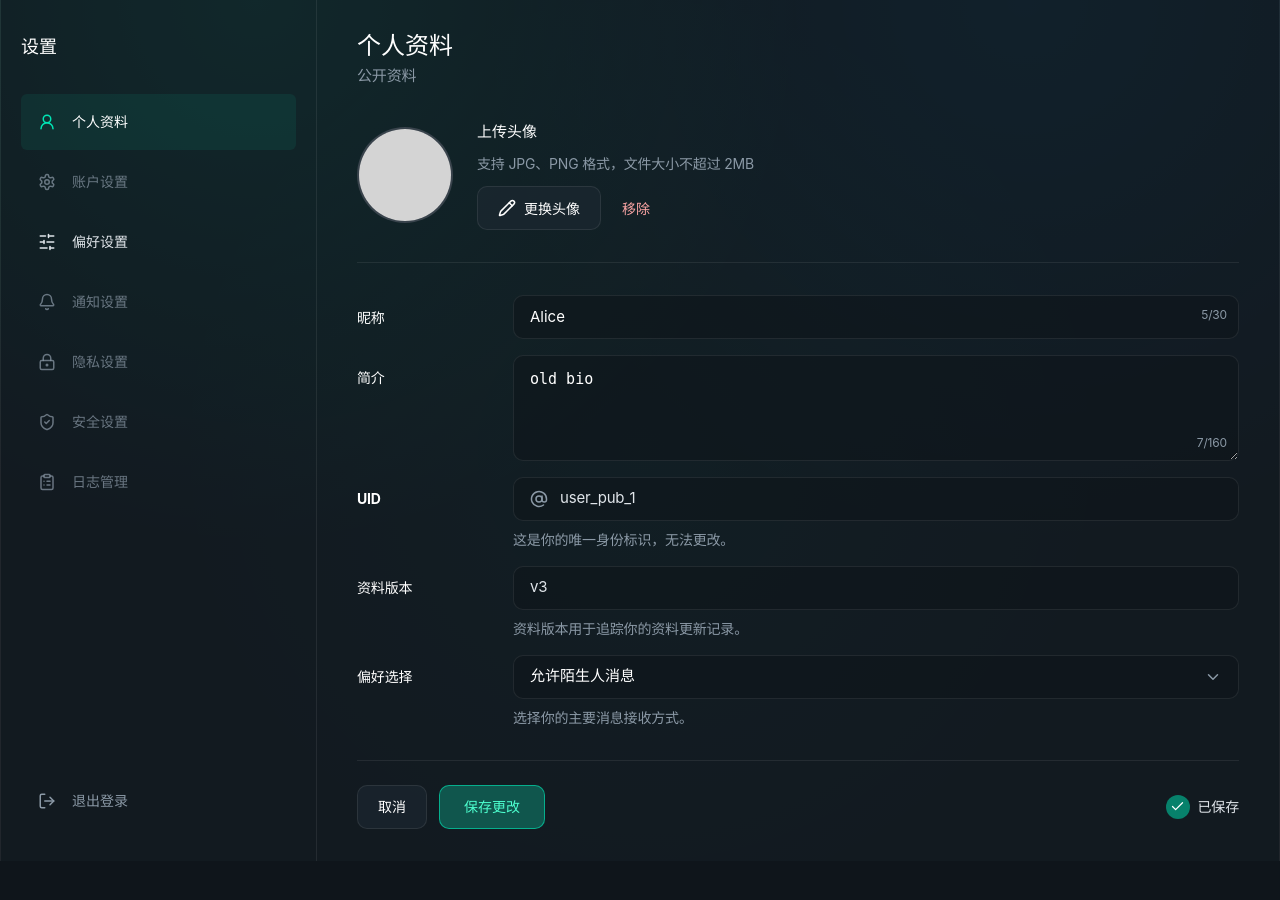
Scenario: UserProfileRoutePage › maps nickname ApiError codes to the nickname field
Replace the text in the field labelled "昵称" with "Alice2" at (876, 317), box left=513, top=295, right=1239, bottom=339
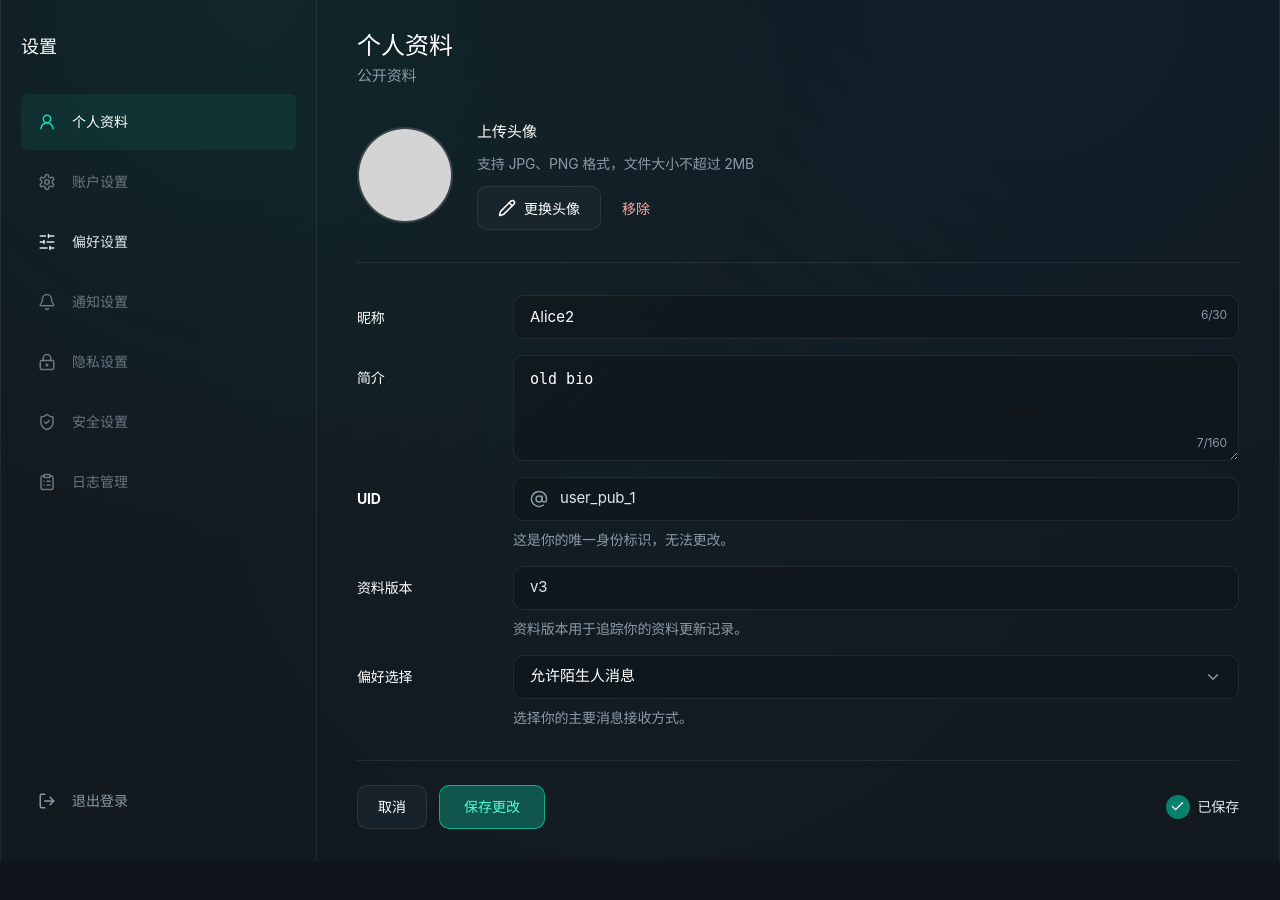
Submit the form
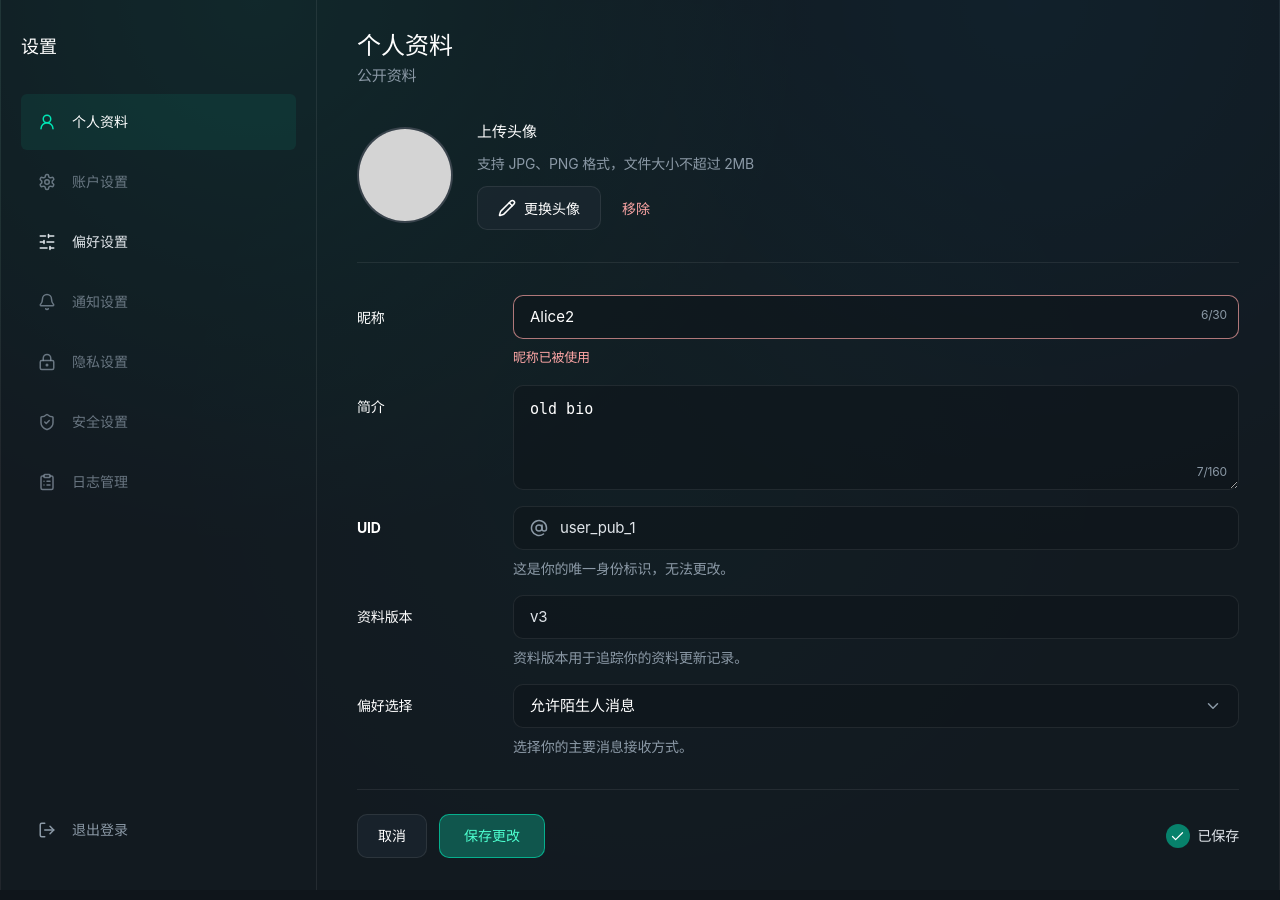
Check: the text "昵称已被使用" is shown, box left=513, top=349, right=590, bottom=365
